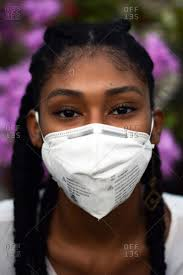with-mask: (19, 19, 167, 223)
